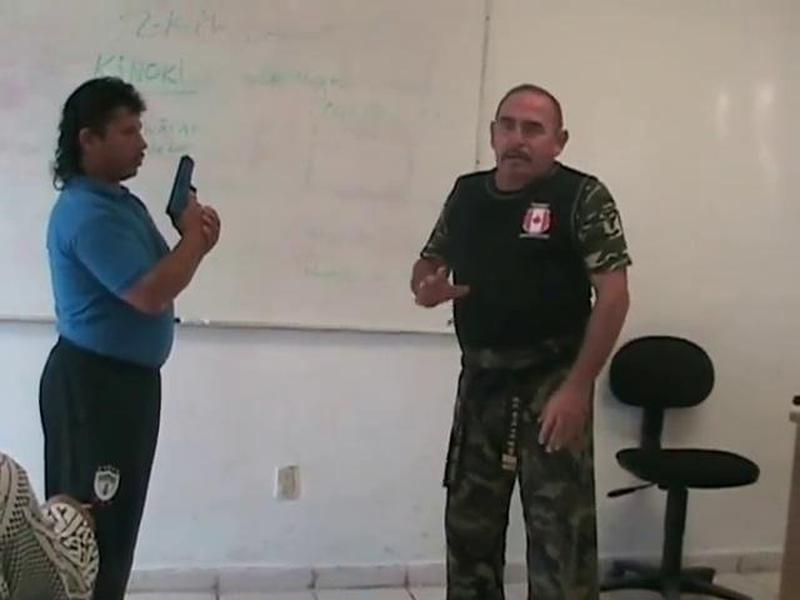Pistola: (175, 147, 202, 221)
